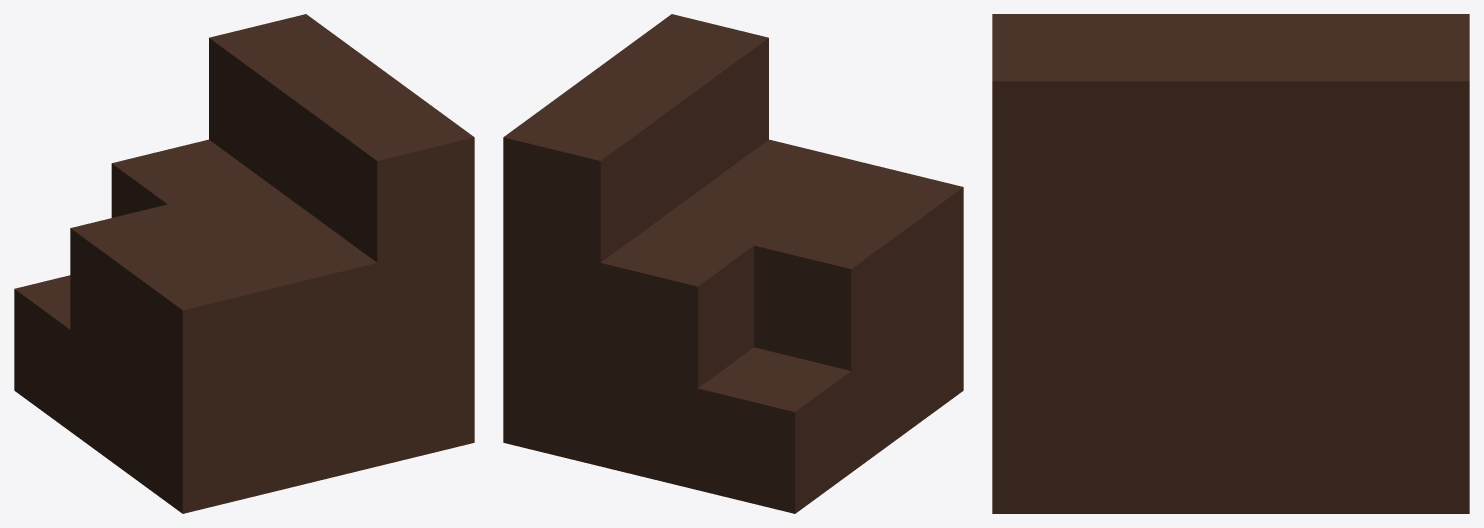
The model's file is beaver__leg_fl.glb.
The picture shows the model from 3 angles, left to right: view 1: azimuth 30°, elevation 25°; view 2: azimuth 150°, elevation 25°; view 3: azimuth 270°, elevation 25°; orthographic projection. The views are drawn at different scales.
Parts seen in each view (by area): view 1: beaver__leg_fl; view 2: beaver__leg_fl; view 3: beaver__leg_fl.
Boxes of the visible parts, x1,y1,x2,y2 form: beaver__leg_fl: [14, 14, 474, 513]; beaver__leg_fl: [503, 14, 963, 513]; beaver__leg_fl: [992, 14, 1469, 513].
Bounding box in the file's own units: 0.3 × 0.3 × 0.3.
1 material, 1 textured.
